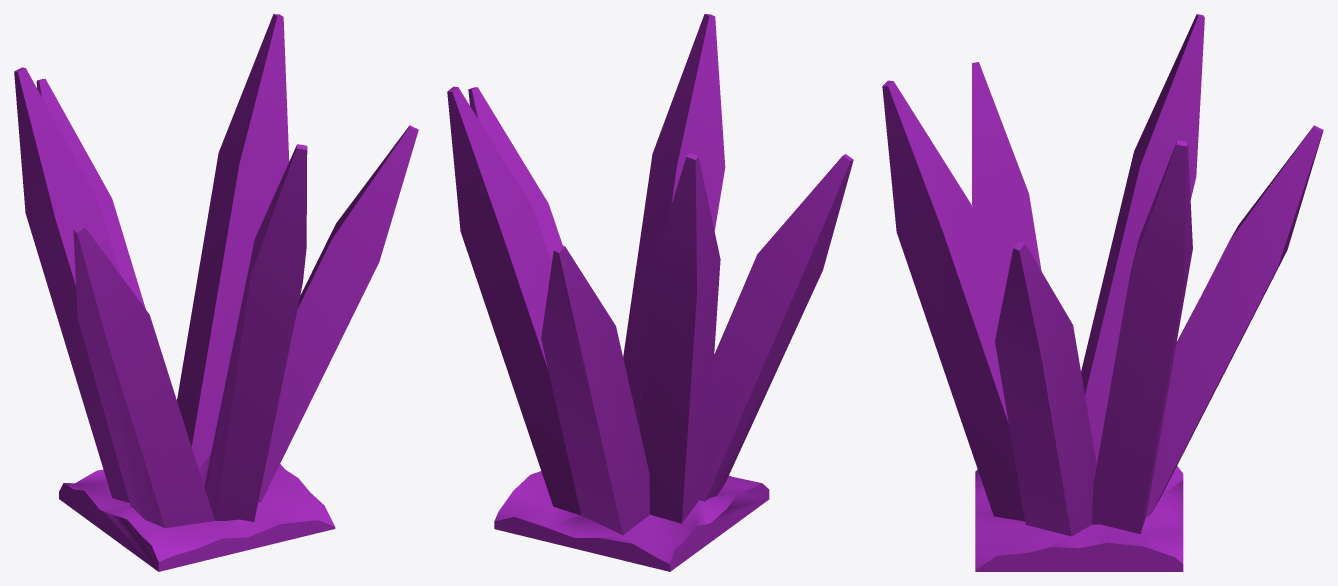
File: Crystal_Cluster.fbx
3 renders of one model, left to right at view 1: azimuth 30°, elevation 25°; view 2: azimuth 150°, elevation 25°; view 3: azimuth 270°, elevation 25°, orthographic. The views are drawn at different scales.
Parts seen in each view (by area): view 1: Crystal_Cluster; view 2: Crystal_Cluster; view 3: Crystal_Cluster.
Part boxes in pixels (x1,y1,x2,y2): Crystal_Cluster: [14, 14, 418, 571]; Crystal_Cluster: [447, 14, 853, 571]; Crystal_Cluster: [882, 14, 1323, 571].
Bounding box in the file's own units: 37.13 × 42.05 × 37.23.
